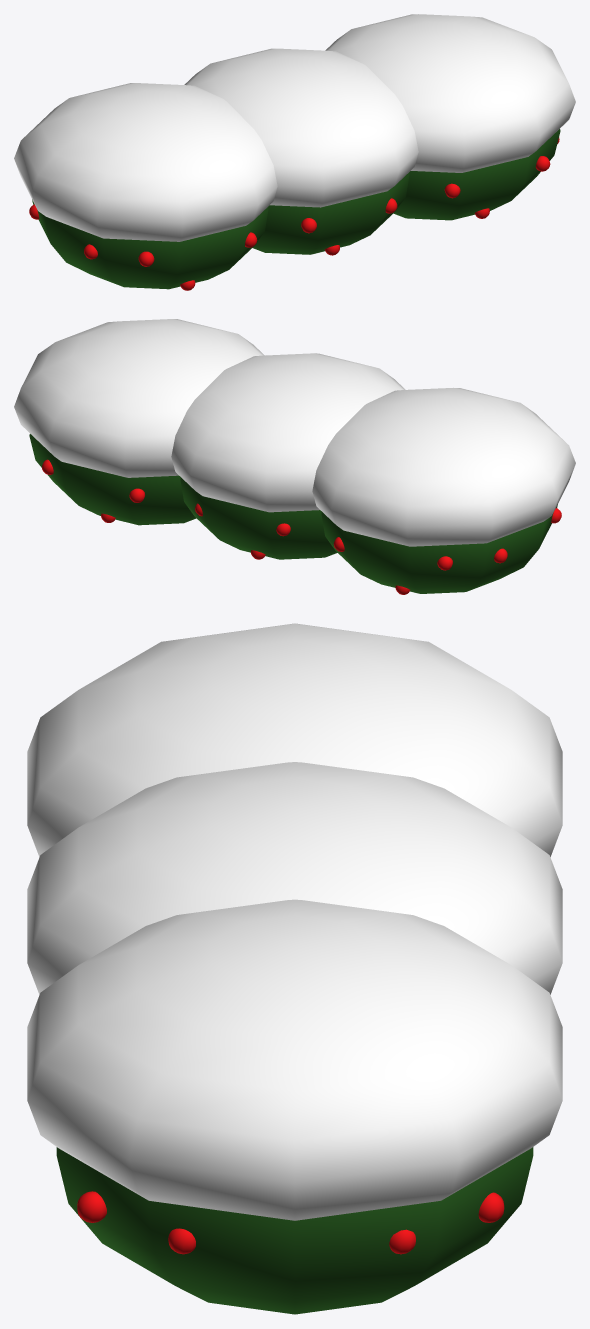
Rendered from bush.fbx.
The picture shows the model from 3 angles, top to bottom: view 1: azimuth 30°, elevation 25°; view 2: azimuth 150°, elevation 25°; view 3: azimuth 270°, elevation 25°; orthographic projection. The views are drawn at different scales.
Visible parts, largest first — view 1: bush1; view 2: bush1; view 3: bush1.
Boxes of the visible parts, x1,y1,x2,y2 form: bush1: (14,14,575,290); bush1: (14,319,575,594); bush1: (27,623,562,1314).
Size of the model in its own units: 4.85 by 1.48 by 2.14.
